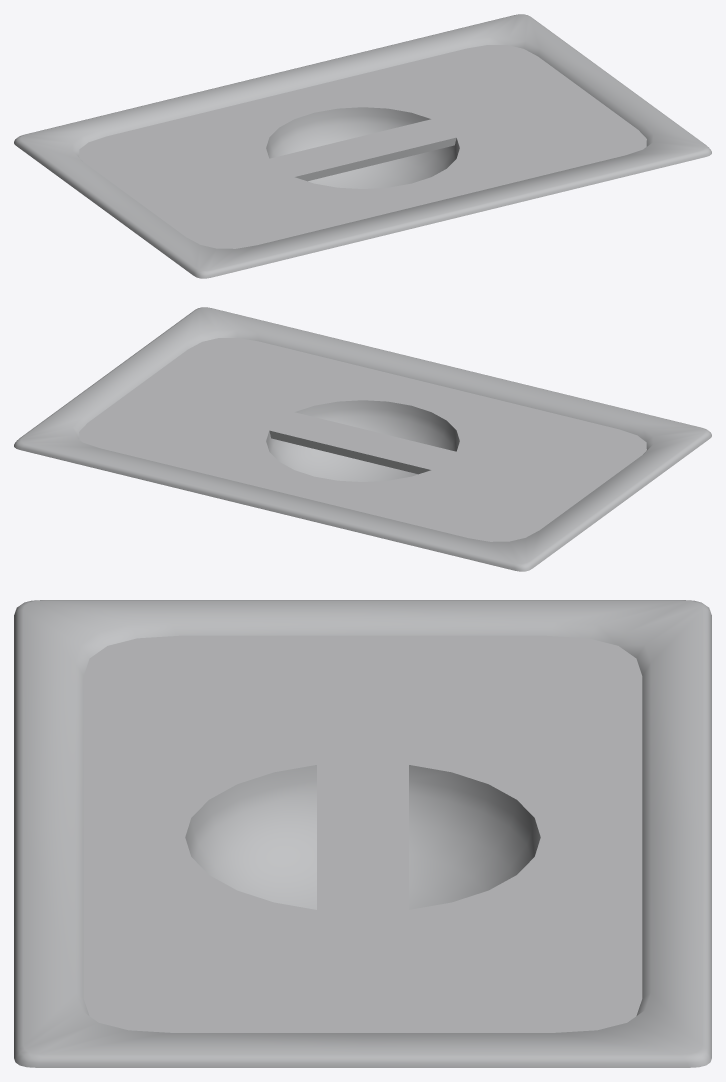
File: SM_Foodcontainer_Foodcontainer_Lid.fbx
3 renders of one model, top to bottom at view 1: azimuth 30°, elevation 25°; view 2: azimuth 150°, elevation 25°; view 3: azimuth 270°, elevation 25°, orthographic. The views are drawn at different scales.
Parts seen in each view (by area): view 1: SM_Foodcontainer_Foodcontainer_Lid; view 2: SM_Foodcontainer_Foodcontainer_Lid; view 3: SM_Foodcontainer_Foodcontainer_Lid.
Boxes of the visible parts, left/top/right/bottom form: SM_Foodcontainer_Foodcontainer_Lid: left=14, top=14, right=711, bottom=278; SM_Foodcontainer_Foodcontainer_Lid: left=14, top=307, right=711, bottom=571; SM_Foodcontainer_Foodcontainer_Lid: left=14, top=600, right=711, bottom=1067.
Bounding box in the file's own units: 53.05 × 33.87 × 5.58.
Materials: 1 (1 with a texture image).
